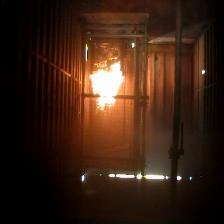fire: (87, 58, 128, 119)
